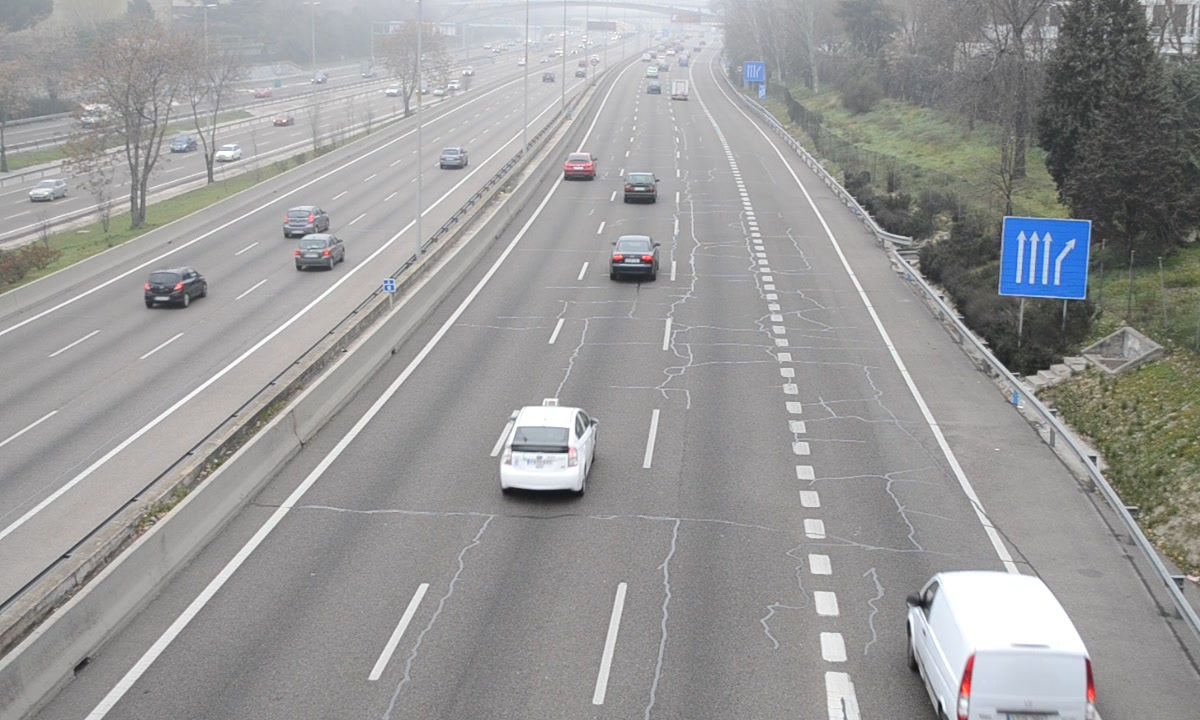car: (501, 407, 593, 492), (610, 234, 657, 277), (623, 172, 657, 202), (563, 152, 597, 181)
van: (910, 569, 1096, 720)
